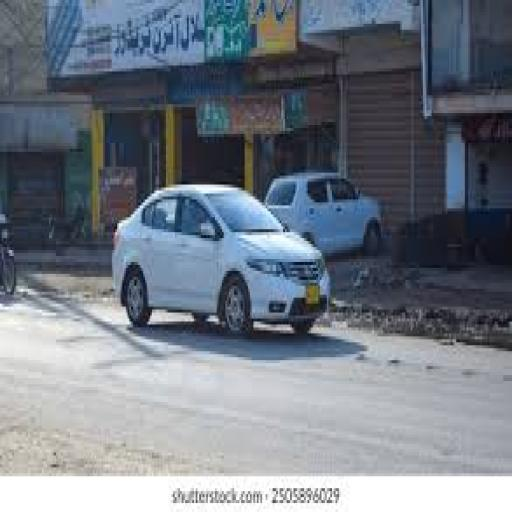License: (298, 282, 322, 308)
